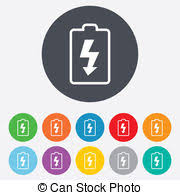charging sign: (58, 15, 117, 92)
